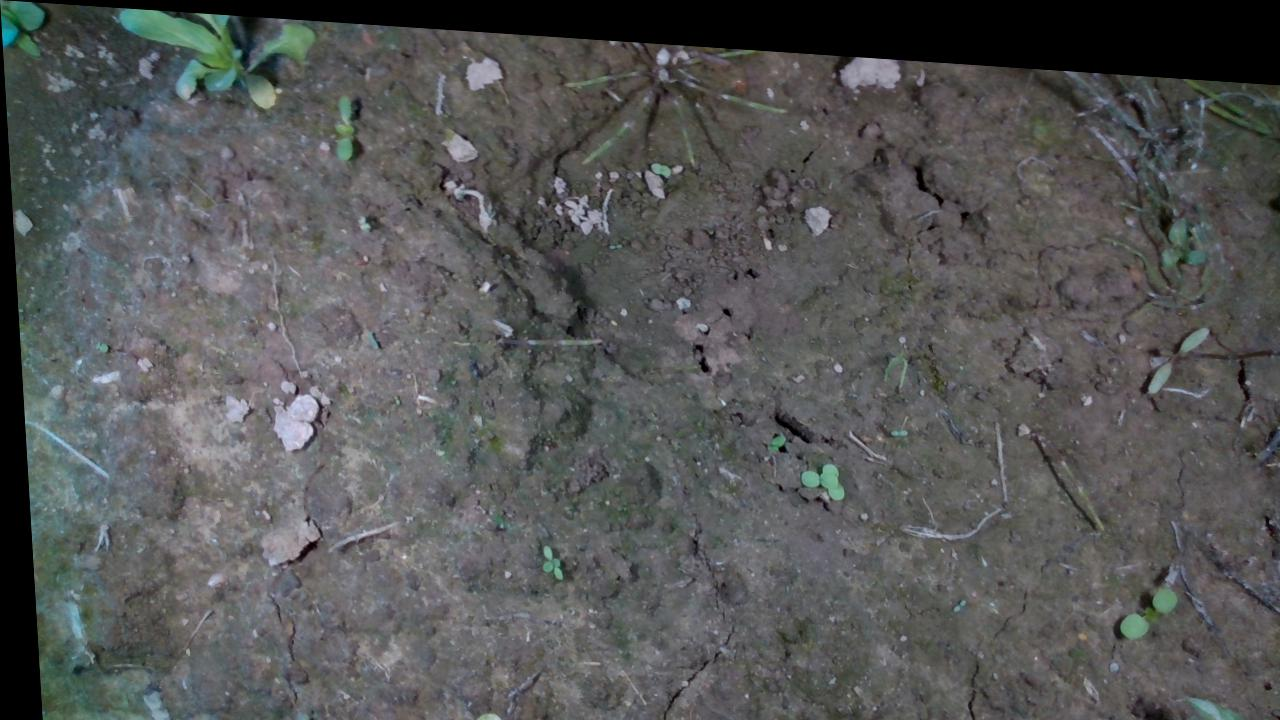weed: (1108, 566, 1173, 626), (528, 531, 575, 575), (328, 85, 354, 156), (595, 717, 636, 719)
